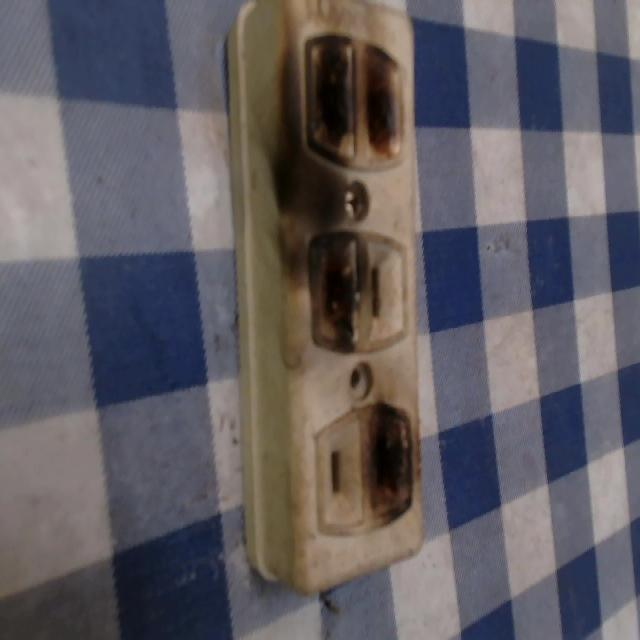-: (301, 17, 406, 171), (296, 223, 362, 353), (356, 403, 419, 520)
